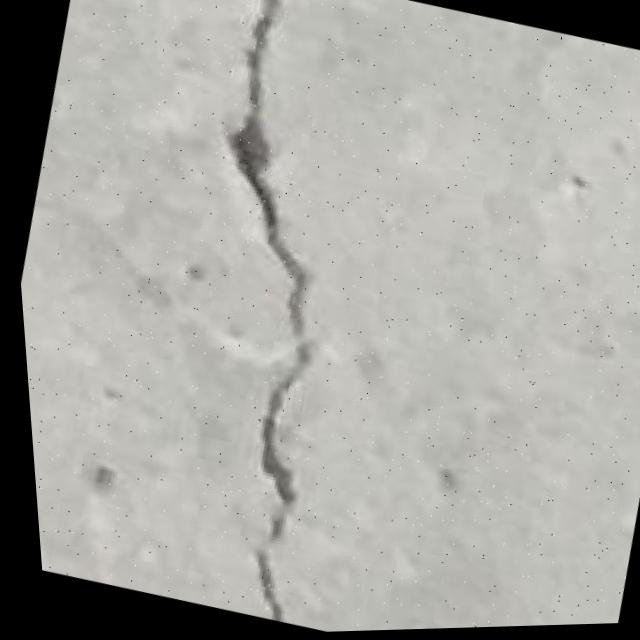Crack: (87, 0, 445, 631)
